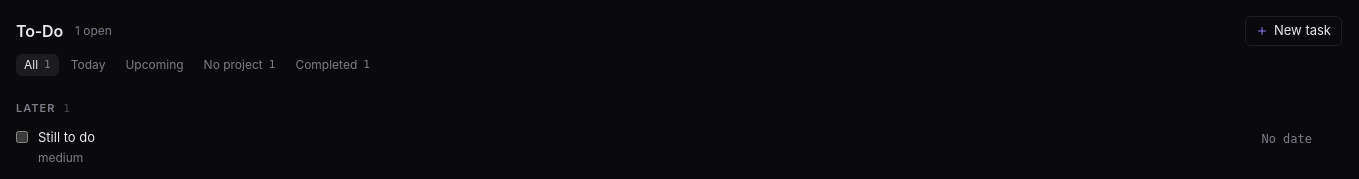
Test case: TodoView Completed filter › shows finished tasks, which no other filter does
Expected: the text "Still to do" is shown, [38,128,95,144]
Expected: the text "Rotate the Grafana token" is not shown
What coordinates should you click on to do the following:
click the button "Completed 1"
I would click on:
 (333, 65)
Its box is [287,54,378,76].
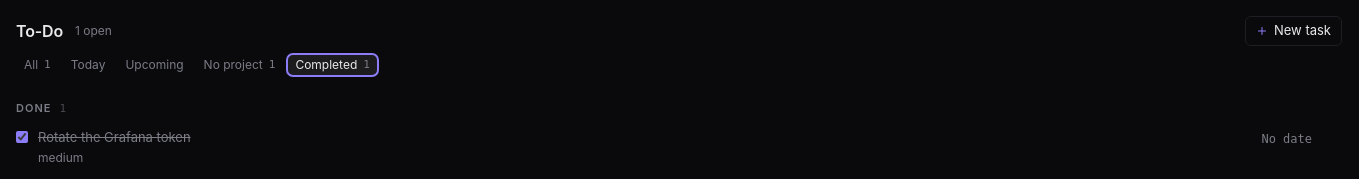
Now the text "Rotate the Grafana token" is shown, box [38,128,191,144]
Now the text "Still to do" is gone
